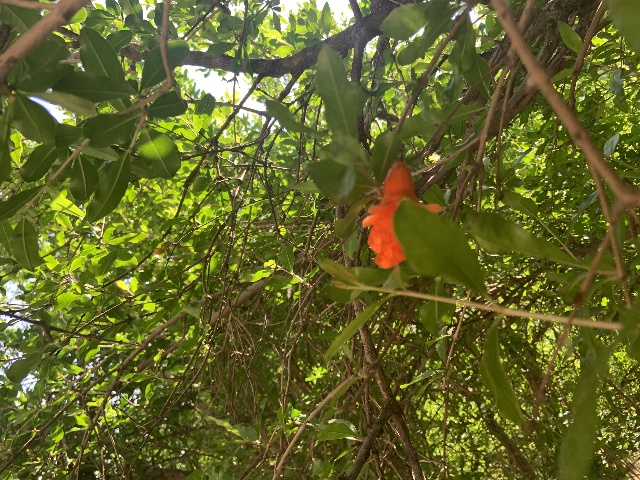bud: (153, 245, 167, 254)
flower: (362, 161, 441, 268)
